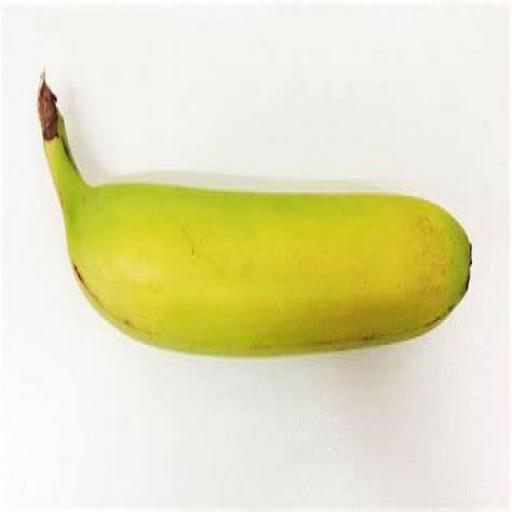fruit: (38, 80, 470, 355)
